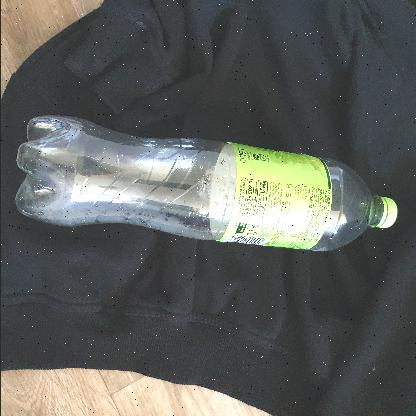Plastic Bottle: (14, 114, 398, 252)
